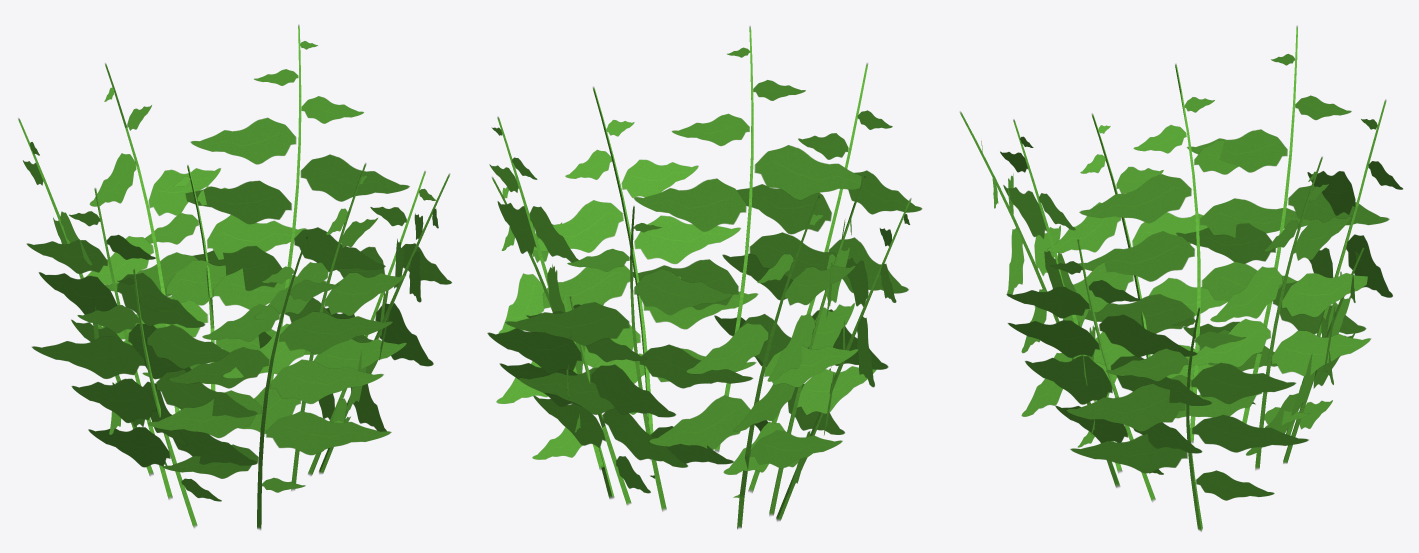
Rendered from Fern_Sensitive.glb.
3 renders of one model, left to right at view 1: azimuth 30°, elevation 25°; view 2: azimuth 150°, elevation 25°; view 3: azimuth 270°, elevation 25°, orthographic. The views are drawn at different scales.
Parts seen in each view (by area): view 1: Fern_Sensitive; view 2: Fern_Sensitive; view 3: Fern_Sensitive.
Part boxes in pixels (<box>): Fern_Sensitive: <box>18,25,451,529</box>; Fern_Sensitive: <box>487,26,922,529</box>; Fern_Sensitive: <box>960,26,1402,531</box>.
Bounding box in the file's own units: 0.4385 × 0.4519 × 0.4396.
1 material, 1 textured.
